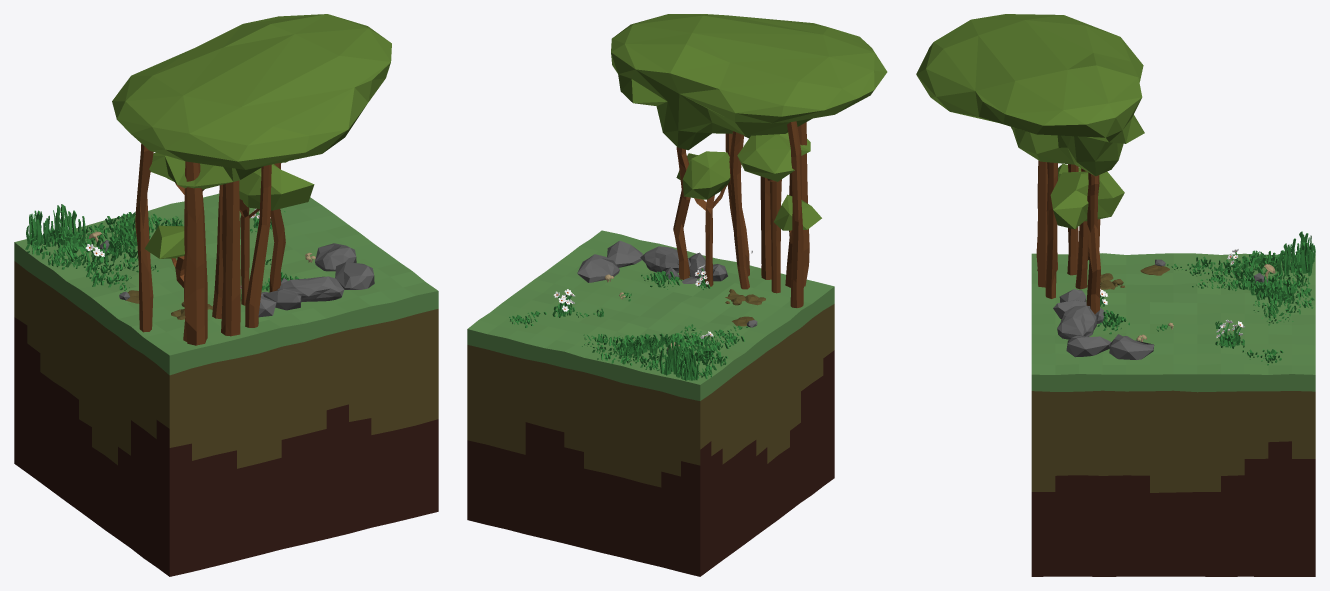
File: noFire2.gltf
3 renders of one model, left to right at view 1: azimuth 30°, elevation 25°; view 2: azimuth 150°, elevation 25°; view 3: azimuth 270°, elevation 25°, orthographic. The views are drawn at different scales.
Visible parts, largest first — view 1: Cube, Mball.010, Cylinder.009, Cylinder.010, Cylinder.006, Cylinder.007, Icosphere.008, Cube.029, Cylinder.011, Icosphere.013, Cylinder.008, Cylinder.012 (+3 smaller); view 2: Cube, Mball.010, Cylinder.006, Cylinder.012, Cylinder.011, Cylinder.009, Cylinder.013, Cylinder.010, Cylinder.008, Icosphere.004, Icosphere.008, Icosphere.013 (+1 smaller); view 3: Cube, Mball.010, Cylinder.011, Cylinder.007, Cylinder.010, Icosphere.008, Icosphere.004, Icosphere.013, Cylinder.012, Cube.029, Cylinder.013.
Part boxes in pixels (x1,y1,x2,y2): Cube: (14,193,438,576); Mball.010: (112,14,391,258); Cylinder.009: (171,161,207,345); Cylinder.010: (221,180,240,336); Cylinder.006: (135,143,153,332); Cylinder.007: (245,164,271,327); Icosphere.008: (277,276,344,301); Cube.029: (63,231,122,264); Cylinder.011: (269,163,285,292); Icosphere.013: (335,262,374,289); Cylinder.008: (239,199,259,305); Cylinder.012: (212,184,223,318); Cube: (467,230,834,576); Mball.010: (611,14,887,230); Cylinder.006: (787,121,803,307); Cylinder.012: (729,131,749,289); Cylinder.011: (673,147,690,279); Cylinder.009: (785,122,809,287); Cylinder.013: (767,178,781,293); Cylinder.010: (760,176,771,279); Cylinder.008: (694,185,726,286); Icosphere.004: (577,254,619,282); Icosphere.008: (640,246,690,272); Icosphere.013: (607,240,642,267); Cube: (1031,253,1315,576); Mball.010: (916,14,1144,229); Cylinder.011: (1086,172,1100,314); Cylinder.007: (1045,162,1057,298); Cylinder.010: (1037,160,1047,287); Icosphere.008: (1057,305,1096,339); Icosphere.004: (1109,334,1154,359); Icosphere.013: (1066,335,1111,357); Cylinder.012: (1075,168,1088,289); Cube.029: (1227,251,1277,283); Cylinder.013: (1067,164,1078,275).
Bounding box in the file's own units: 22.48 × 34.09 × 27.29.
